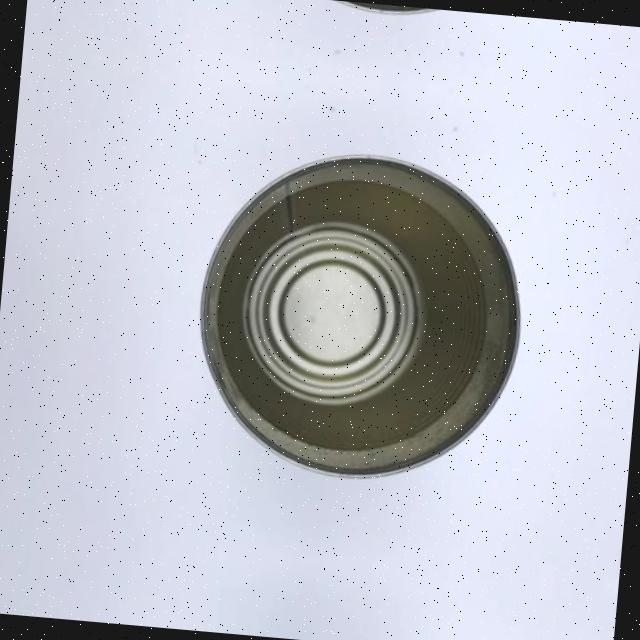Metal: (154, 130, 564, 513), (196, 0, 577, 36), (141, 612, 522, 640)
